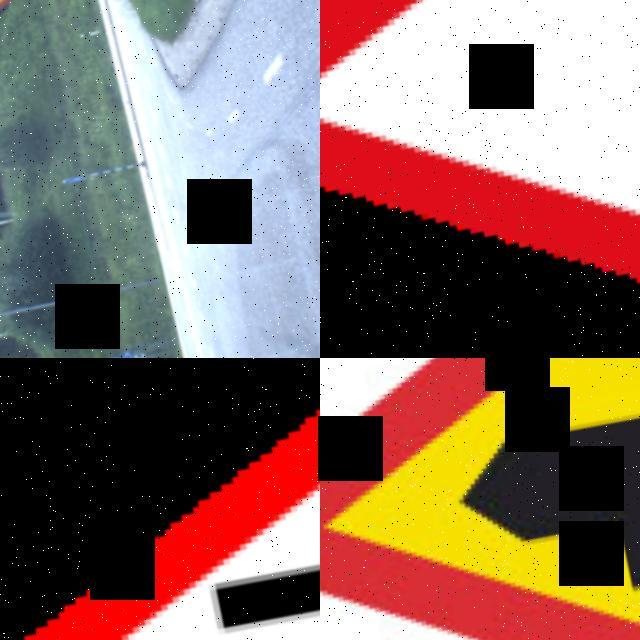166: (320, 358, 640, 640)
173: (115, 346, 138, 358)
Dip: (320, 0, 640, 358)
Narrow road: (0, 358, 320, 640)
